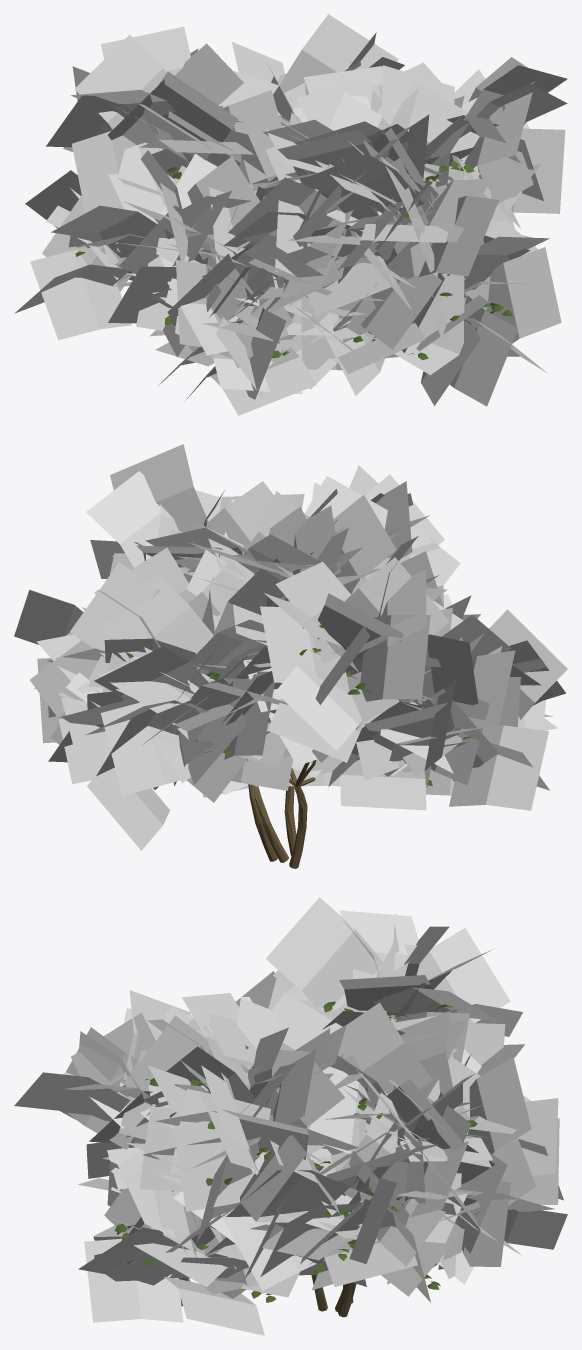
Rendered from Lentisque_Dense_LOD1.fbx.
3 views of the same model, one above another, from view 1: azimuth 30°, elevation 25°; view 2: azimuth 150°, elevation 25°; view 3: azimuth 270°, elevation 25° (orthographic).
Parts seen in each view (by area): view 1: Lentisque_Dense_LOD1; view 2: Lentisque_Dense_LOD1; view 3: Lentisque_Dense_LOD1.
Part boxes in pixels (x1,y1,x2,y2): Lentisque_Dense_LOD1: (14,14,567,415); Lentisque_Dense_LOD1: (14,444,567,868); Lentisque_Dense_LOD1: (14,897,567,1335).
Bounding box in the file's own units: 377 × 244 × 347.
